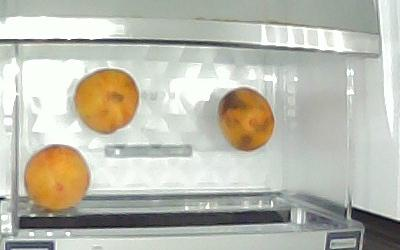peach: (74, 68, 141, 136), (23, 144, 89, 212), (217, 86, 275, 153)
